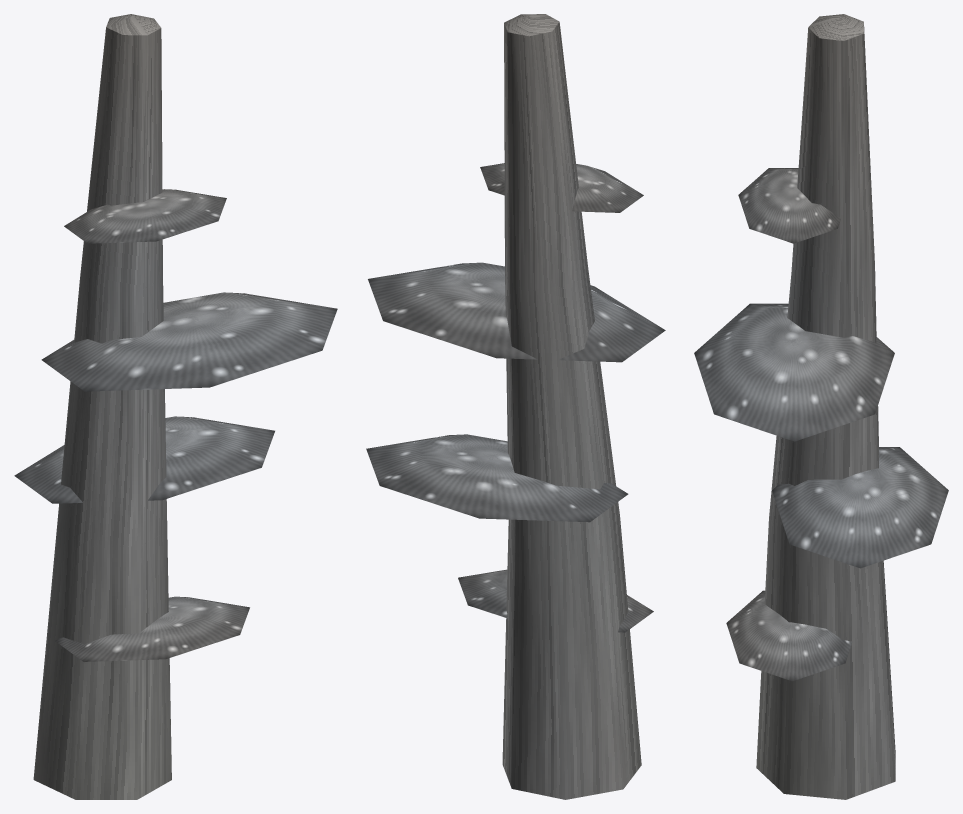
File: shelf_tower_l1.gltf
The picture shows the model from 3 angles, left to right: view 1: azimuth 30°, elevation 25°; view 2: azimuth 150°, elevation 25°; view 3: azimuth 270°, elevation 25°; orthographic projection. The views are drawn at different scales.
Parts seen in each view (by area): view 1: shelf_tower_l1; view 2: shelf_tower_l1; view 3: shelf_tower_l1.
Part boxes in pixels (box(x1,y1,x2,y2)): shelf_tower_l1: box(14, 14, 337, 799); shelf_tower_l1: box(366, 14, 665, 799); shelf_tower_l1: box(694, 14, 948, 799).
Size of the model in its own units: 1.58 by 4.05 by 1.22.
2 materials, 2 textured.
